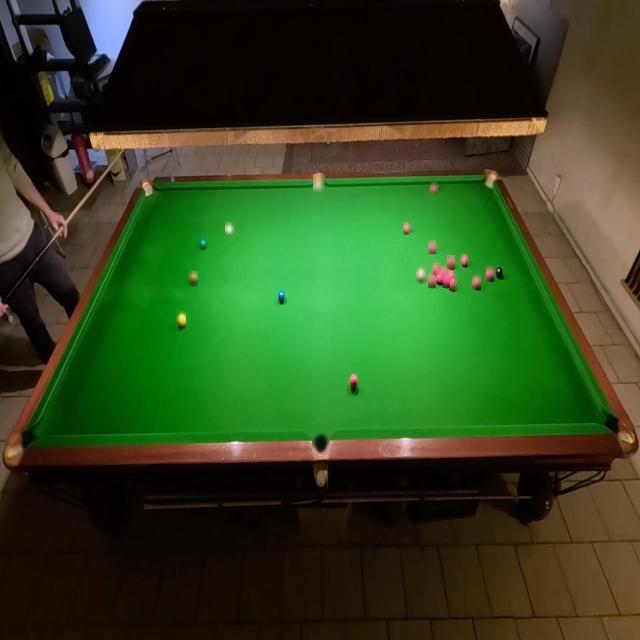Ball: (176, 312, 186, 332), (349, 373, 359, 391), (416, 267, 426, 284), (277, 288, 286, 306), (188, 272, 198, 288), (496, 265, 506, 281), (226, 222, 236, 237), (472, 274, 481, 290), (199, 237, 208, 252), (486, 266, 494, 282), (436, 270, 444, 285), (450, 277, 458, 291), (442, 274, 450, 288), (428, 274, 436, 288), (447, 256, 455, 270), (428, 240, 436, 254), (461, 253, 468, 268), (430, 182, 438, 195), (404, 222, 412, 235), (434, 263, 442, 275), (441, 267, 448, 278), (448, 270, 454, 281)
Pocket: (6, 425, 40, 470), (603, 414, 636, 452), (312, 434, 330, 456), (482, 171, 498, 190), (141, 180, 155, 199), (314, 174, 326, 192)
